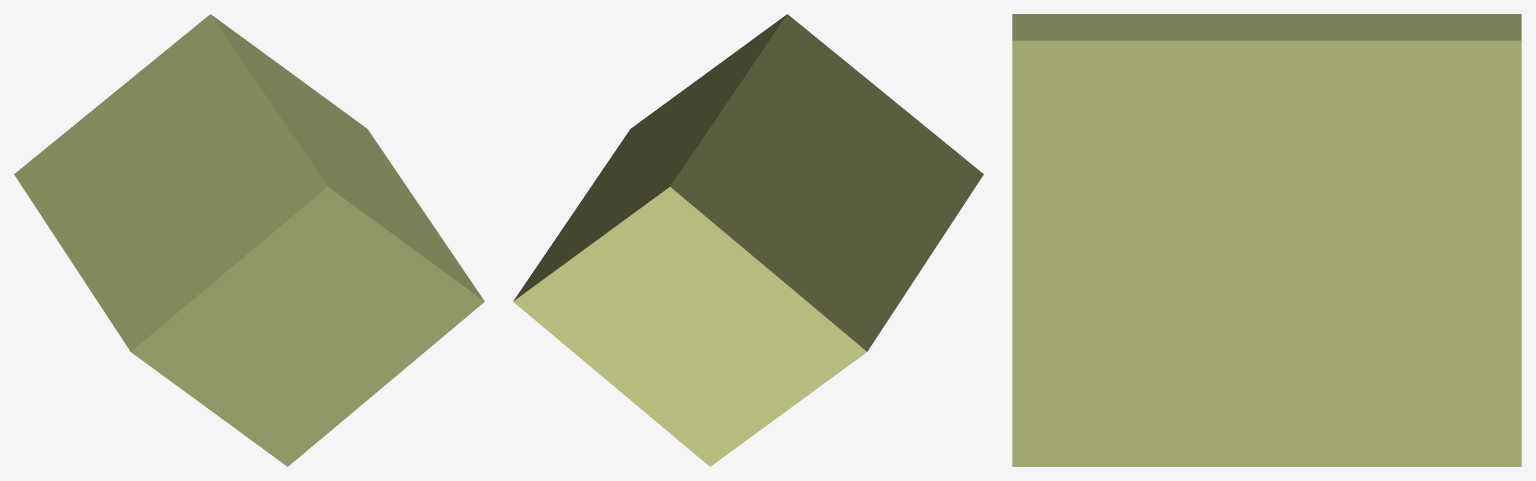
3 renders of one model, left to right at view 1: azimuth 30°, elevation 25°; view 2: azimuth 150°, elevation 25°; view 3: azimuth 270°, elevation 25°, orthographic. The views are drawn at different scales.
Visible parts, largest first — view 1: 0_0_1_1_2_2_1_0_0_1; view 2: 0_0_1_1_2_2_1_0_0_1; view 3: 0_0_1_1_2_2_1_0_0_1.
Boxes of the visible parts, x1,y1,x2,y2 form: 0_0_1_1_2_2_1_0_0_1: [14, 14, 484, 466]; 0_0_1_1_2_2_1_0_0_1: [513, 14, 983, 466]; 0_0_1_1_2_2_1_0_0_1: [1012, 14, 1521, 466].
Bounding box in the file's own units: 10.38 × 10.07 × 9.
